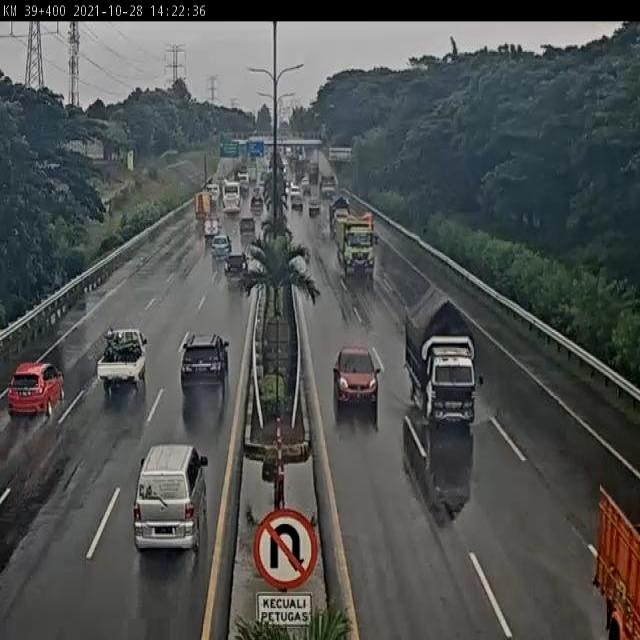Car: (6, 358, 69, 425), (97, 327, 150, 398), (329, 346, 384, 413), (180, 332, 232, 398), (223, 252, 249, 282), (210, 234, 232, 262), (238, 217, 255, 237), (292, 194, 303, 213), (251, 196, 263, 212), (291, 185, 301, 201)
Truck: (404, 284, 484, 436), (592, 480, 640, 640), (335, 213, 378, 279), (327, 199, 352, 237), (194, 190, 214, 222), (321, 175, 336, 201), (193, 295, 206, 295)
Van: (131, 444, 209, 554)
